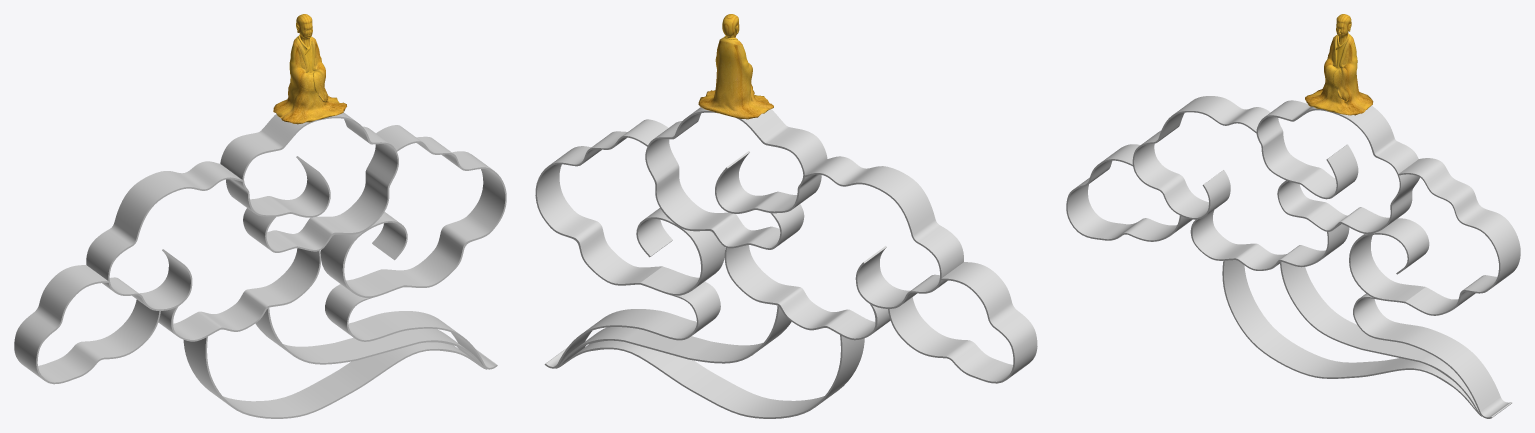
File: yun_2.obj
3 views of the same model, side by side, from view 1: azimuth 30°, elevation 25°; view 2: azimuth 150°, elevation 25°; view 3: azimuth 330°, elevation 25° (orthographic). The views are drawn at different scales.
Parts seen in each view (by area): view 1: Line01, Line02, Line08, Line06, Line05, Line04, Box01, Shape02; view 2: Line01, Line02, Line08, Line06, Line05, Line04, Box01, Shape02; view 3: Line08, Line01, Line02, Line05, Shape02, Line06, Line04, Box01.
Boxes of the visible parts, x1,y1,x2,y2 form: Line01: (220, 112, 398, 252); Line02: (320, 125, 506, 297); Line08: (183, 308, 486, 418); Line06: (14, 265, 160, 384); Line05: (86, 161, 243, 310); Line04: (158, 248, 321, 341); Box01: (273, 14, 346, 124); Shape02: (325, 284, 497, 369); Line01: (645, 107, 827, 249); Line02: (535, 119, 724, 295); Line08: (555, 306, 864, 418); Line06: (888, 262, 1037, 383); Line05: (803, 156, 963, 308); Line04: (724, 245, 890, 340); Box01: (698, 14, 773, 119); Shape02: (544, 281, 720, 368); Line08: (1222, 260, 1482, 416); Line01: (1256, 100, 1419, 233); Line02: (1349, 158, 1520, 315); Line05: (1132, 96, 1270, 219); Shape02: (1353, 293, 1512, 418); Line06: (1066, 144, 1192, 241); Line04: (1190, 210, 1349, 270); Box01: (1305, 14, 1373, 115).
Size of the model in its own units: 615 by 481 by 62.22.
Materials: 2 (1 with a texture image).
